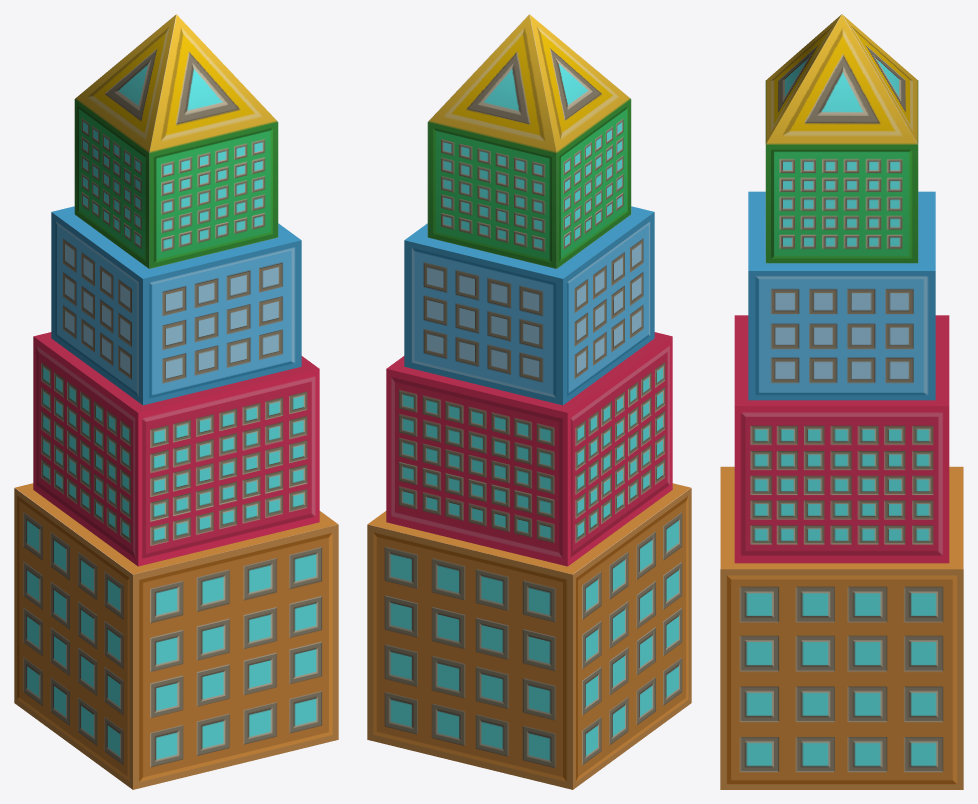
The model's file is building (2).fbx.
The picture shows the model from 3 angles, left to right: view 1: azimuth 30°, elevation 25°; view 2: azimuth 150°, elevation 25°; view 3: azimuth 270°, elevation 25°; orthographic projection. The views are drawn at different scales.
Parts seen in each view (by area): view 1: pCube1; view 2: pCube1; view 3: pCube1.
Boxes of the visible parts, bbox=[...] form: pCube1: bbox=[14, 14, 338, 789]; pCube1: bbox=[367, 14, 691, 789]; pCube1: bbox=[720, 14, 963, 789].
Size of the model in its own units: 4.32 by 14.18 by 4.32.
